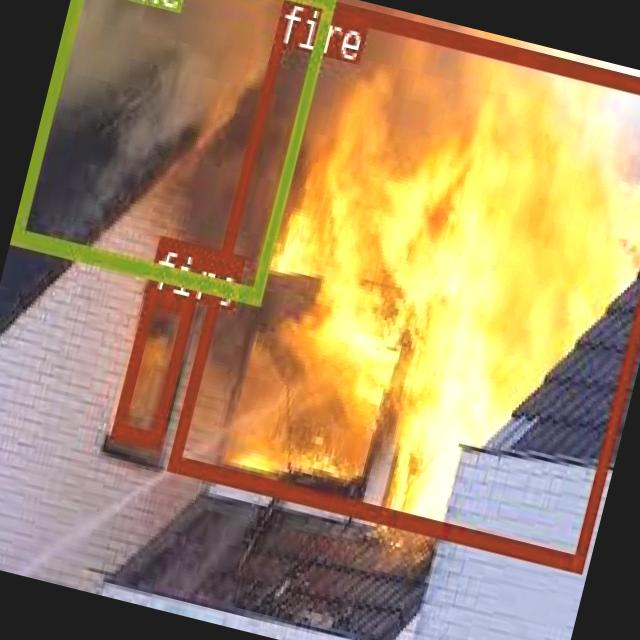fire: (166, 0, 640, 569), (109, 286, 192, 444)
smoke: (10, 0, 335, 300)
